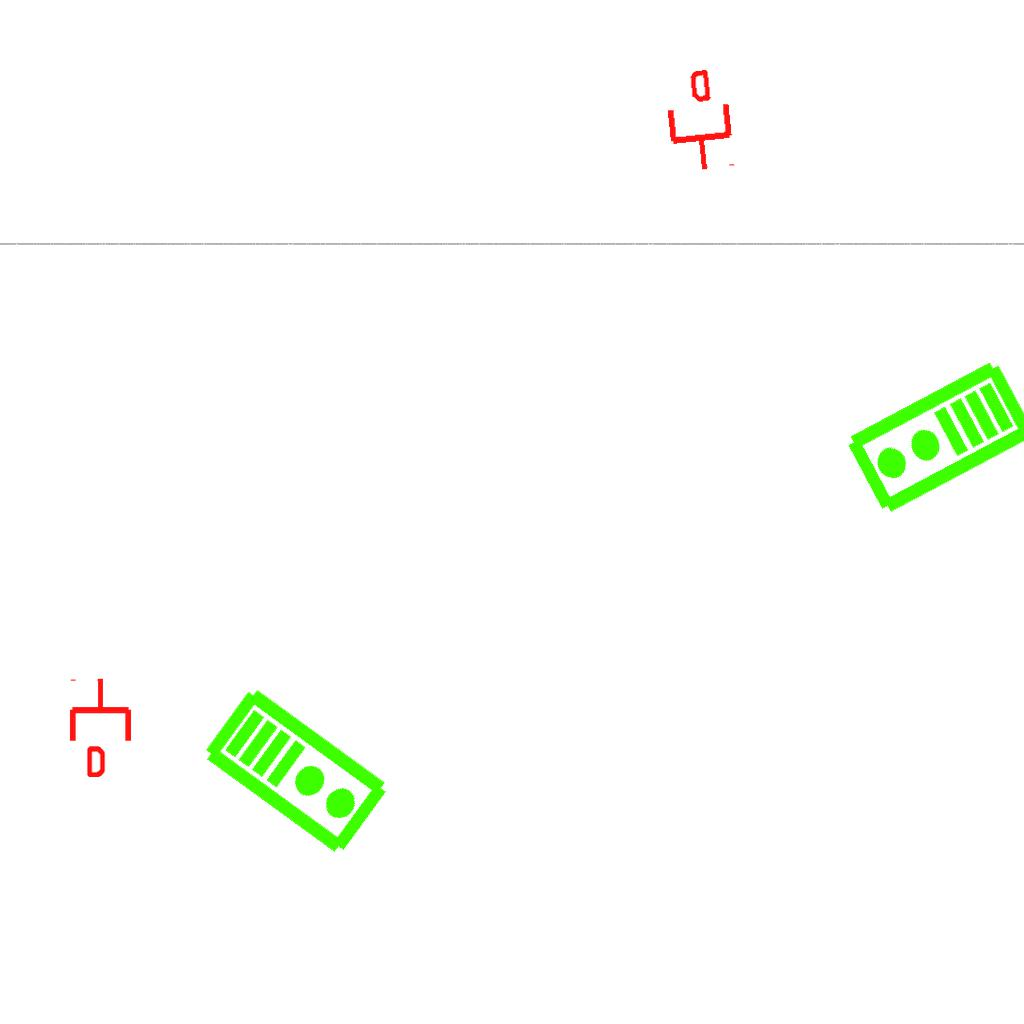Datenanschluss_einfach: (659, 67, 740, 175), (66, 677, 135, 777)
Gegensprechanlage_mit_Video: (198, 679, 397, 861), (840, 355, 1024, 523)
